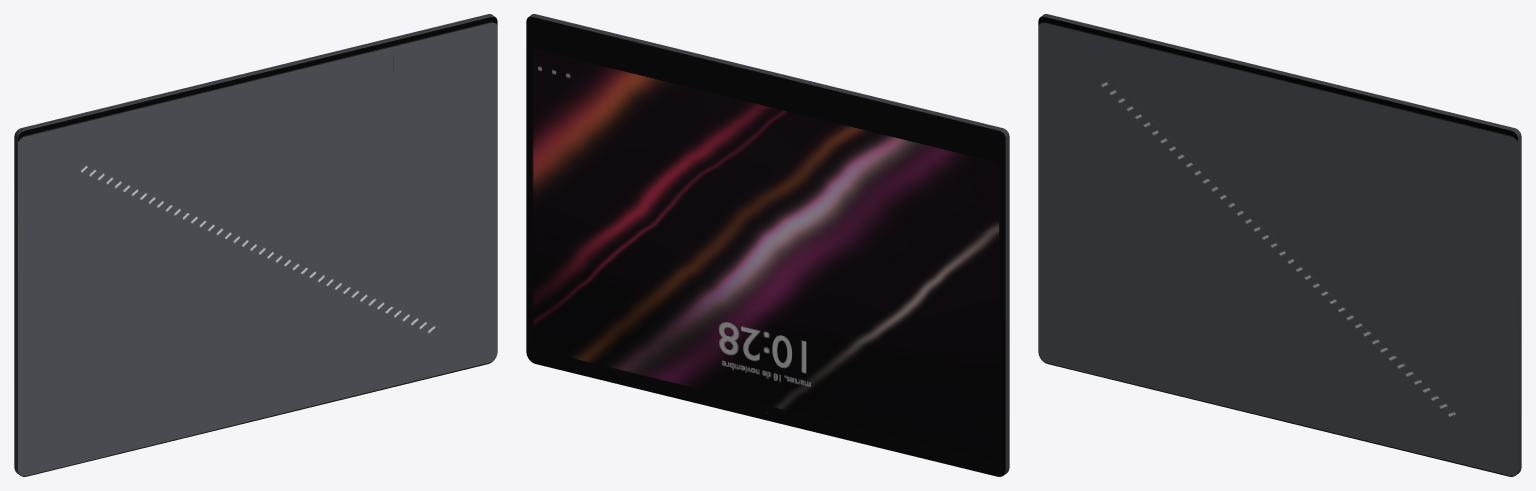
File: lid.obj
3 renders of one model, left to right at view 1: azimuth 30°, elevation 25°; view 2: azimuth 150°, elevation 25°; view 3: azimuth 330°, elevation 25°, orthographic.
Visible parts, largest first — view 1: lid.001, lid; view 2: display, lid; view 3: lid.001, lid.
Boxes of the visible parts, x1,y1,x2,y2 form: lid.001: (18, 17, 497, 476); lid: (14, 14, 497, 476); display: (526, 17, 1005, 476); lid: (526, 14, 1009, 476); lid.001: (1038, 17, 1517, 476); lid: (1038, 14, 1521, 476).
Size of the model in its own units: 354 by 244 by 4.66.
